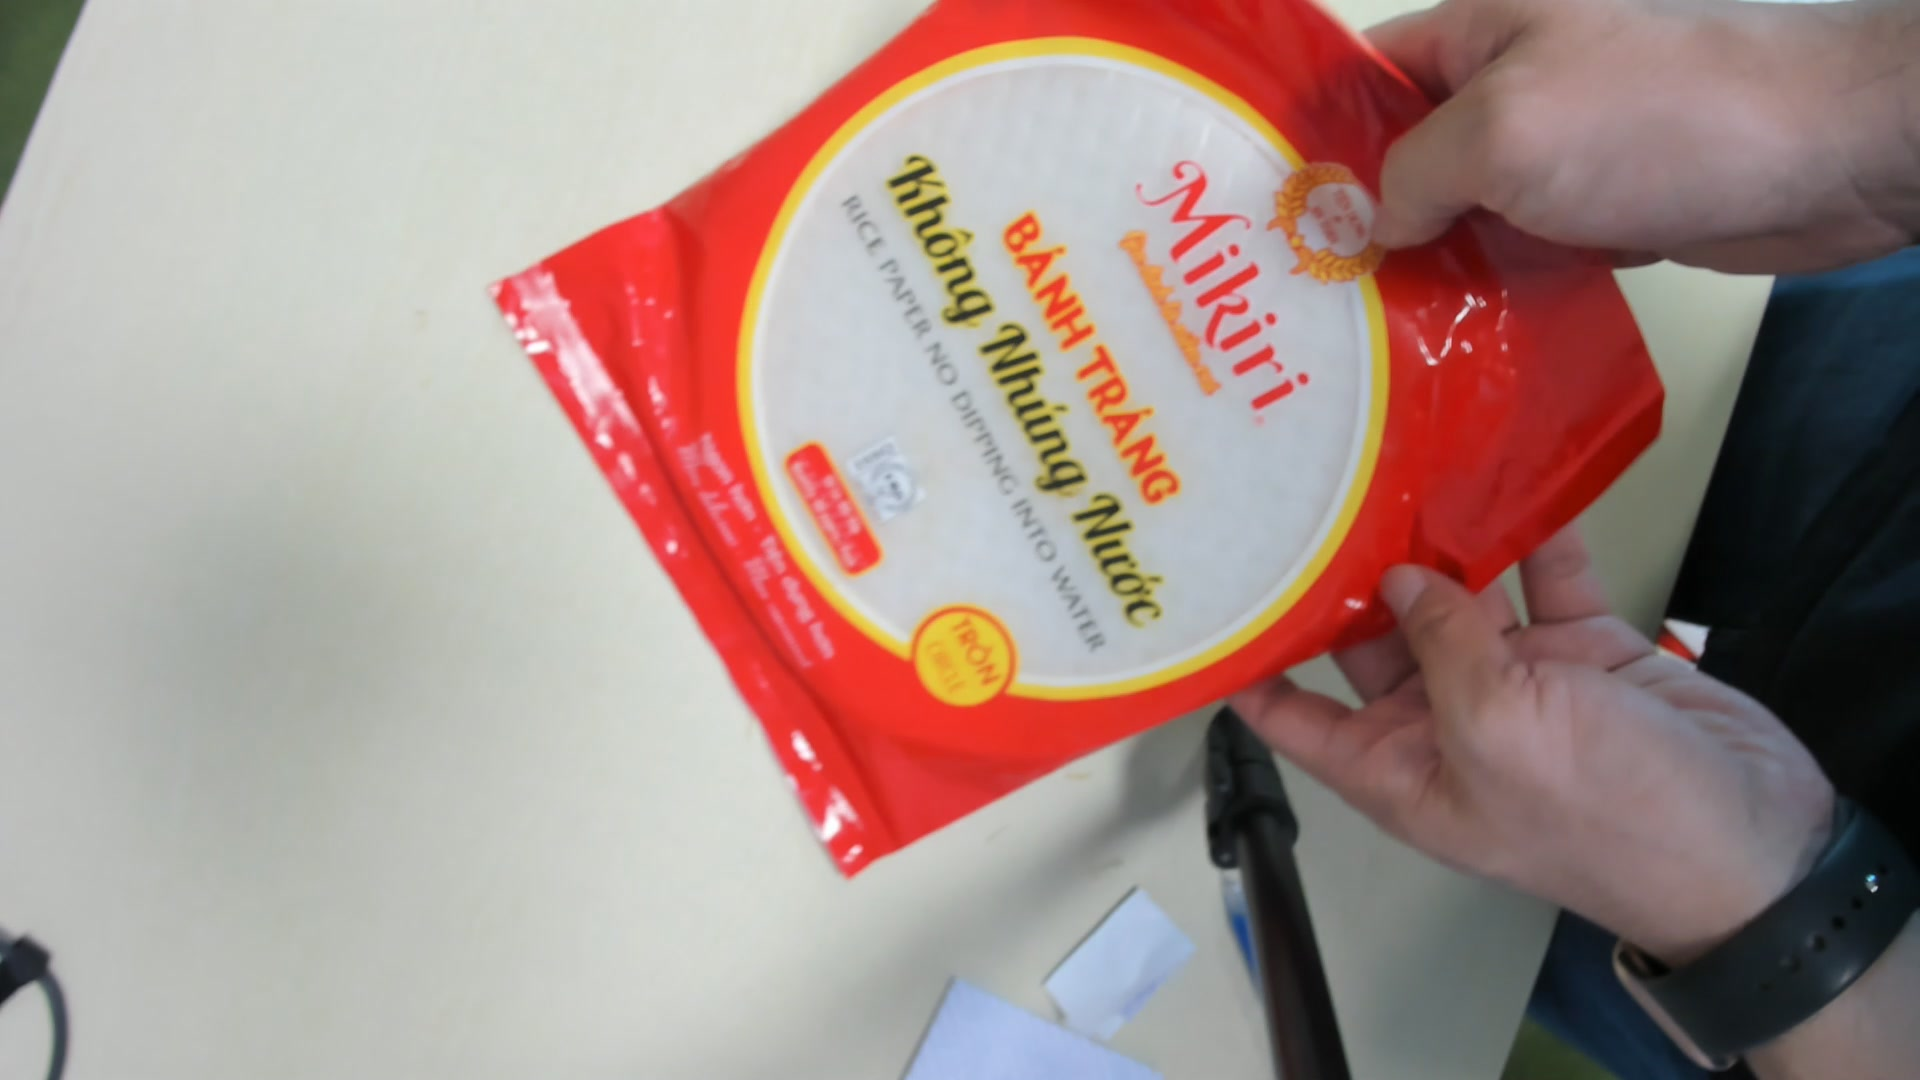InstantMeals_200_299g_NonHalal_NonHealthy: (488, 1, 1673, 898)
